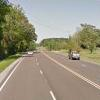Car: (68, 46, 80, 64)
